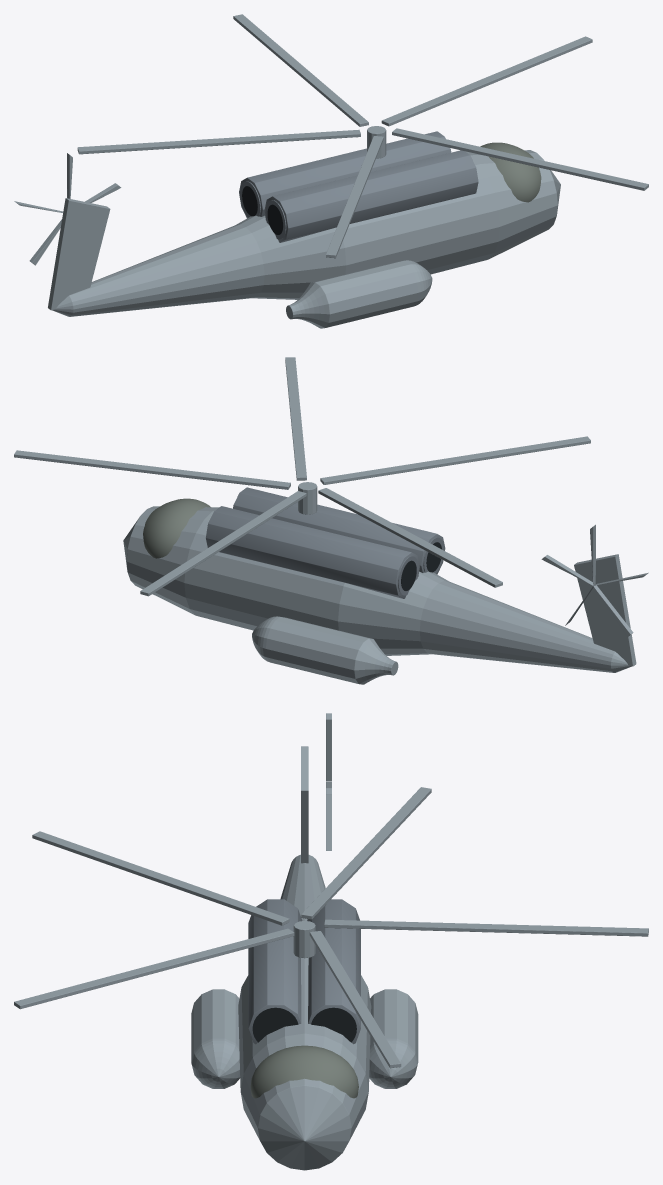
3 renders of one model, top to bottom at view 1: azimuth 30°, elevation 25°; view 2: azimuth 150°, elevation 25°; view 3: azimuth 270°, elevation 25°, orthographic. The views are drawn at different scales.
Parts seen in each view (by area): view 1: cw90_sh3h; view 2: cw90_sh3h; view 3: cw90_sh3h.
Part boxes in pixels (<box>): cw90_sh3h: <box>14,14,648,328</box>; cw90_sh3h: <box>14,357,648,684</box>; cw90_sh3h: <box>14,713,648,1170</box>.
Bounding box in the file's own units: 10 × 3.06 × 7.99.
